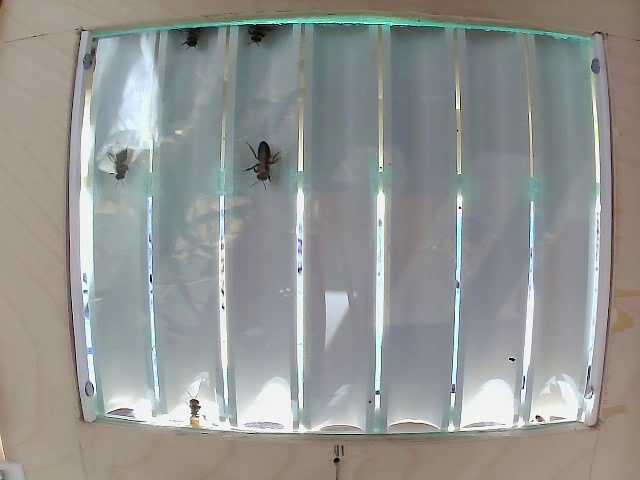bee: (240, 134, 296, 187), (100, 139, 150, 185), (166, 19, 214, 53), (245, 15, 279, 55)
